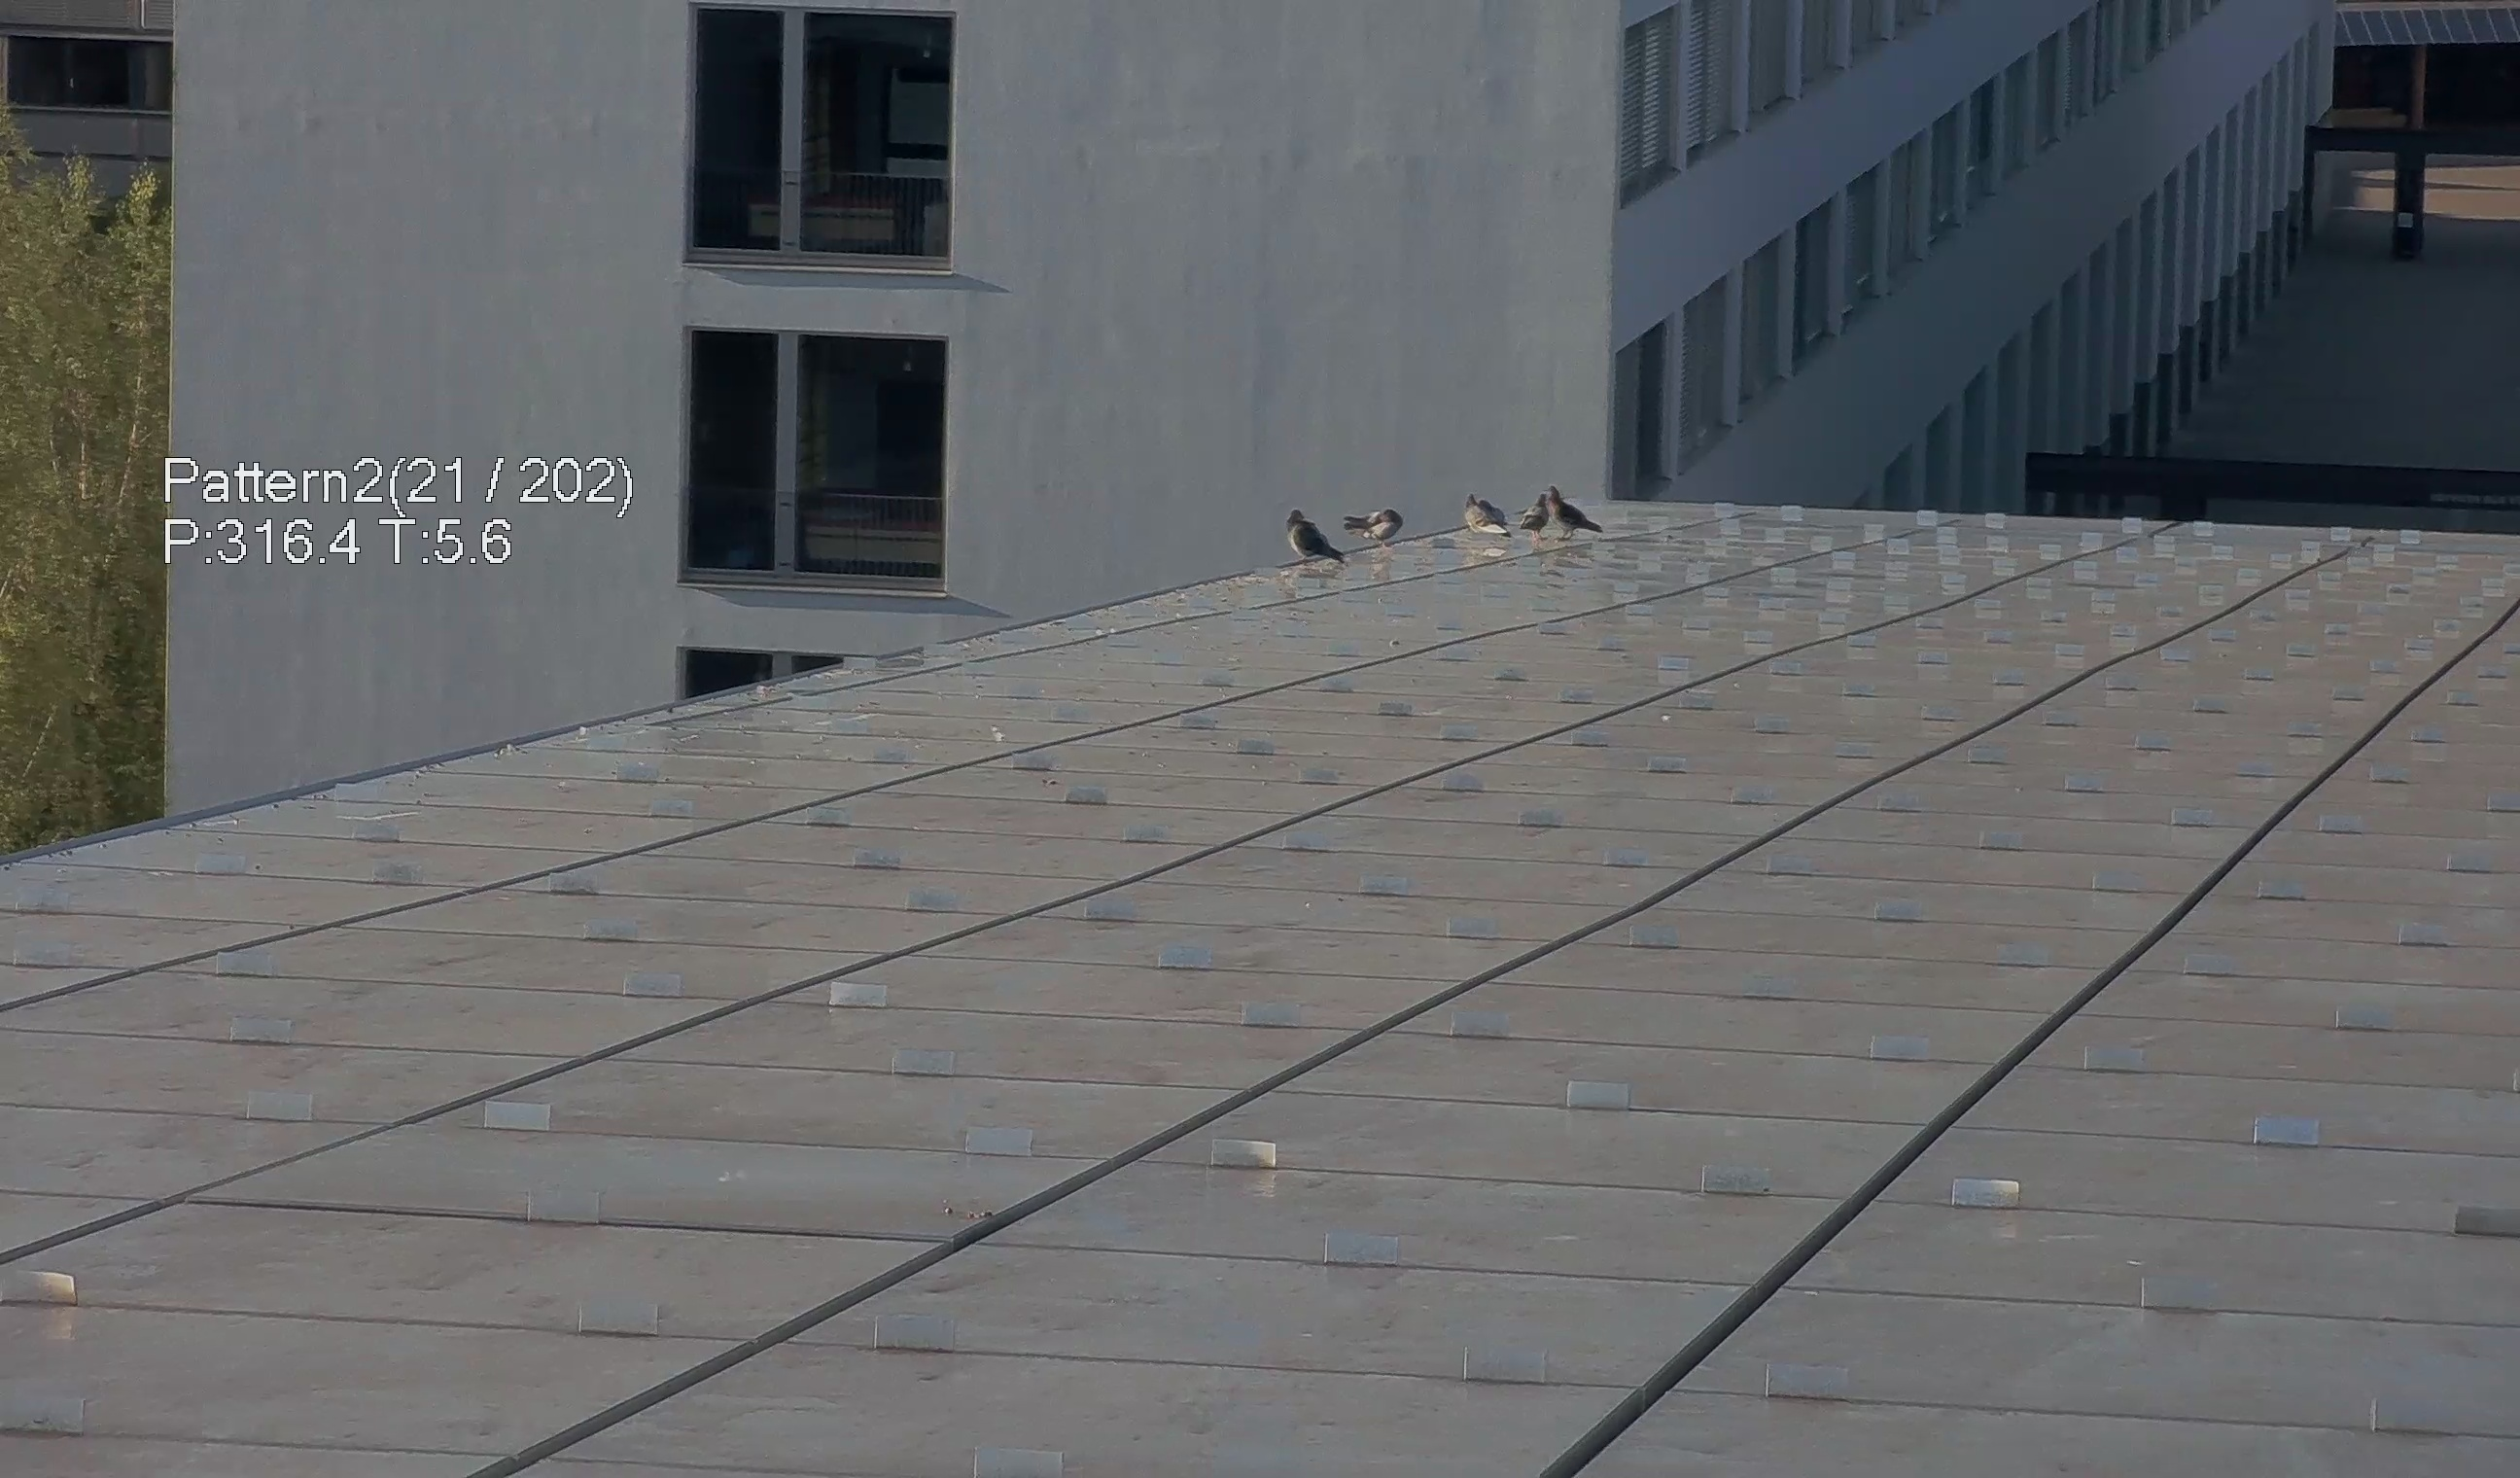Pigeon: (1273, 496, 1365, 577), (1546, 484, 1606, 542), (1336, 507, 1416, 549), (1456, 491, 1505, 540), (1521, 493, 1548, 545)
